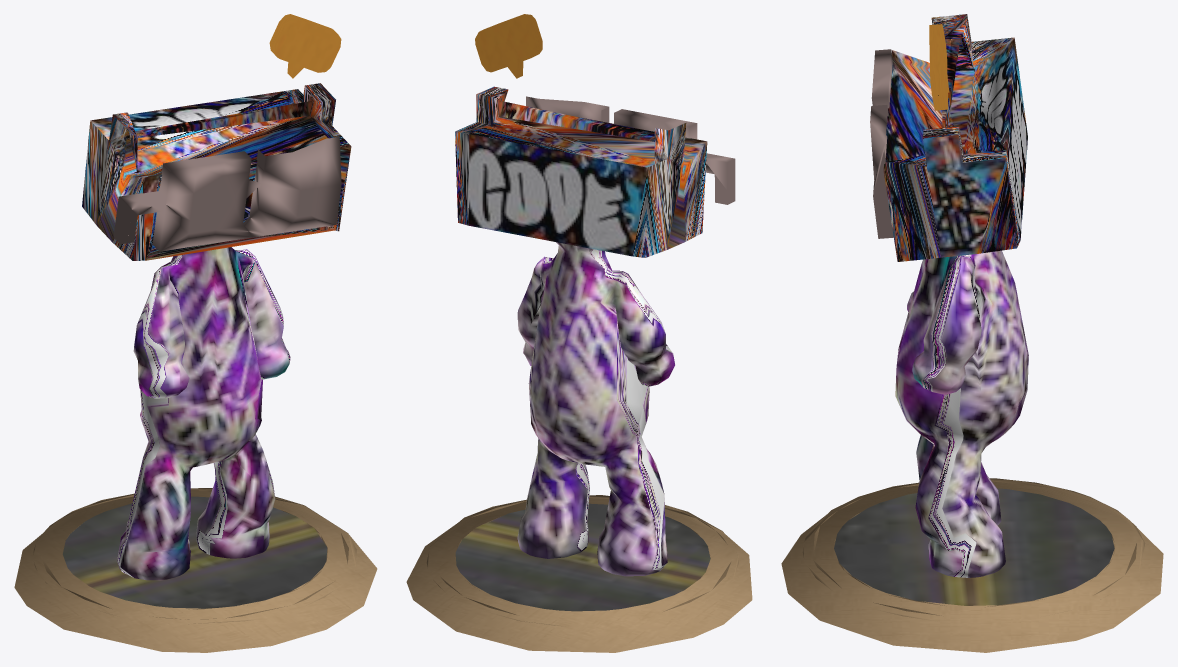
3 renders of one model, left to right at view 1: azimuth 30°, elevation 25°; view 2: azimuth 150°, elevation 25°; view 3: azimuth 270°, elevation 25°, orthographic. The views are drawn at different scales.
Size of the model in its own units: 1.44 by 2.41 by 1.43.
Materials: 6 (6 with a texture image).
